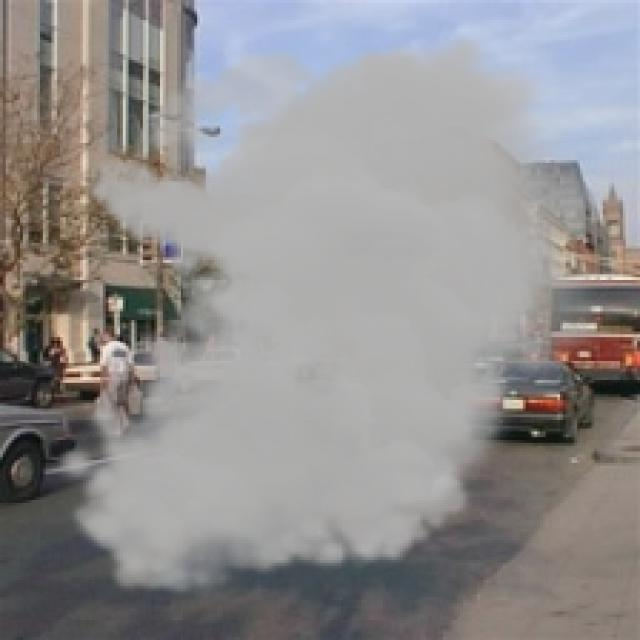smoke: (52, 32, 617, 597)
